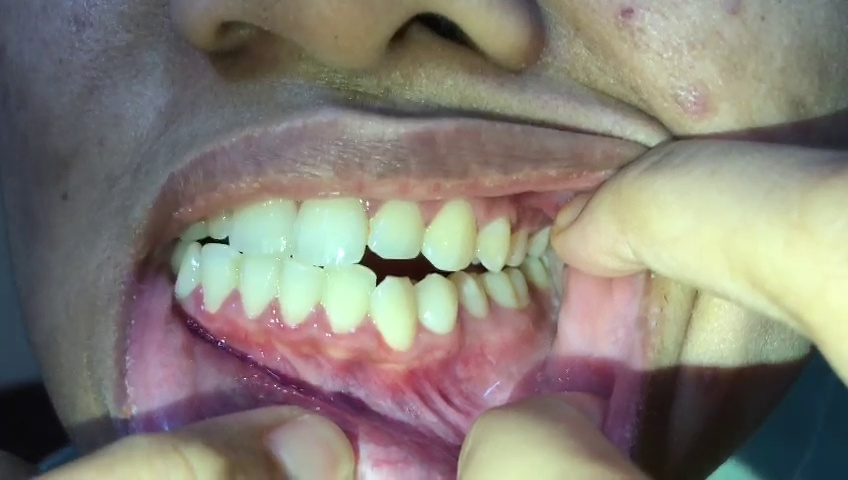1st Molar: (481, 270, 517, 310), (527, 225, 553, 263)
1st Premolar: (416, 272, 458, 334), (476, 215, 507, 272)
2nd Molar: (509, 266, 529, 308)
2nd Premolar: (448, 273, 490, 317), (508, 224, 528, 266)
3rd Molar: (524, 254, 554, 297)
Canine: (424, 200, 474, 269), (374, 276, 419, 351), (176, 239, 202, 299)
Central Incisor: (294, 187, 369, 267), (230, 186, 296, 257), (278, 256, 320, 327), (239, 255, 277, 319)
Lateral Incisor: (318, 264, 374, 334), (369, 194, 424, 258), (200, 242, 241, 313)
